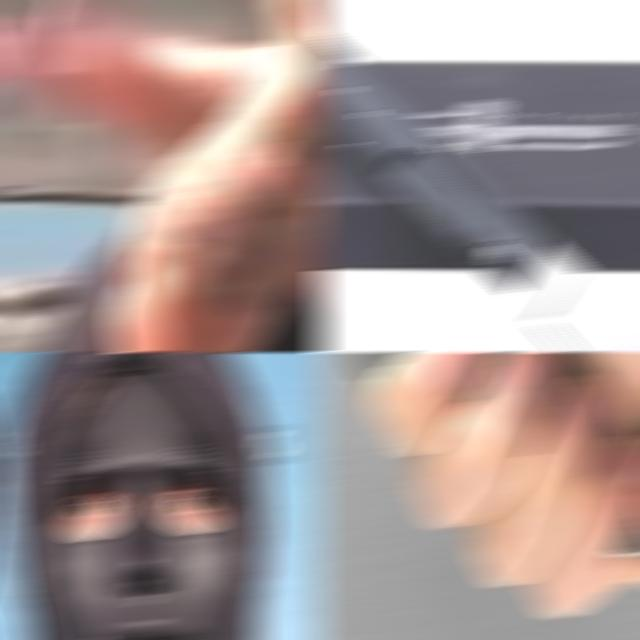Knife: (314, 34, 640, 352)
Knife_Handle: (314, 352, 640, 598), (244, 0, 326, 230)
